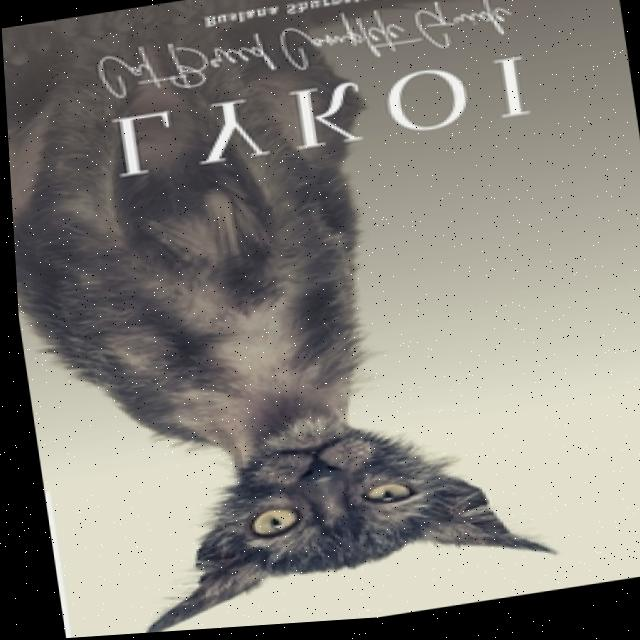Lykoi: (7, 130, 557, 640)
